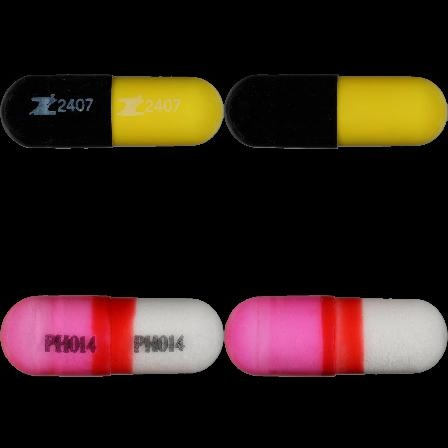54868-0025: (0, 0, 224, 224)
